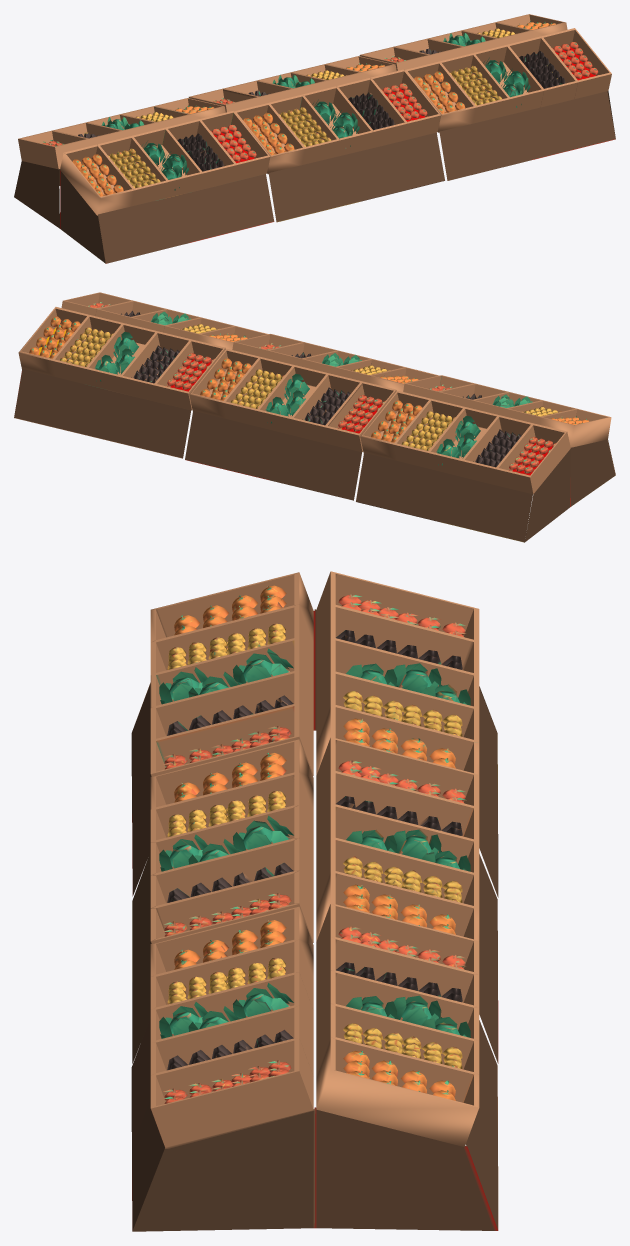
The model's file is ZonaFrutas5x2 2.fbx.
3 renders of one model, top to bottom at view 1: azimuth 30°, elevation 25°; view 2: azimuth 150°, elevation 25°; view 3: azimuth 270°, elevation 25°, orthographic. The views are drawn at different scales.
Visible parts, largest first — view 1: EstanteFruta.001; view 2: EstanteFruta.001; view 3: EstanteFruta.001.
Part boxes in pixels (left/top/right/bottom): EstanteFruta.001: left=14, top=14, right=615, bottom=263; EstanteFruta.001: left=14, top=292, right=615, bottom=542; EstanteFruta.001: left=131, top=571, right=498, bottom=1231.
Size of the model in its own units: 995 by 152 by 309.
1 material, 1 textured.
